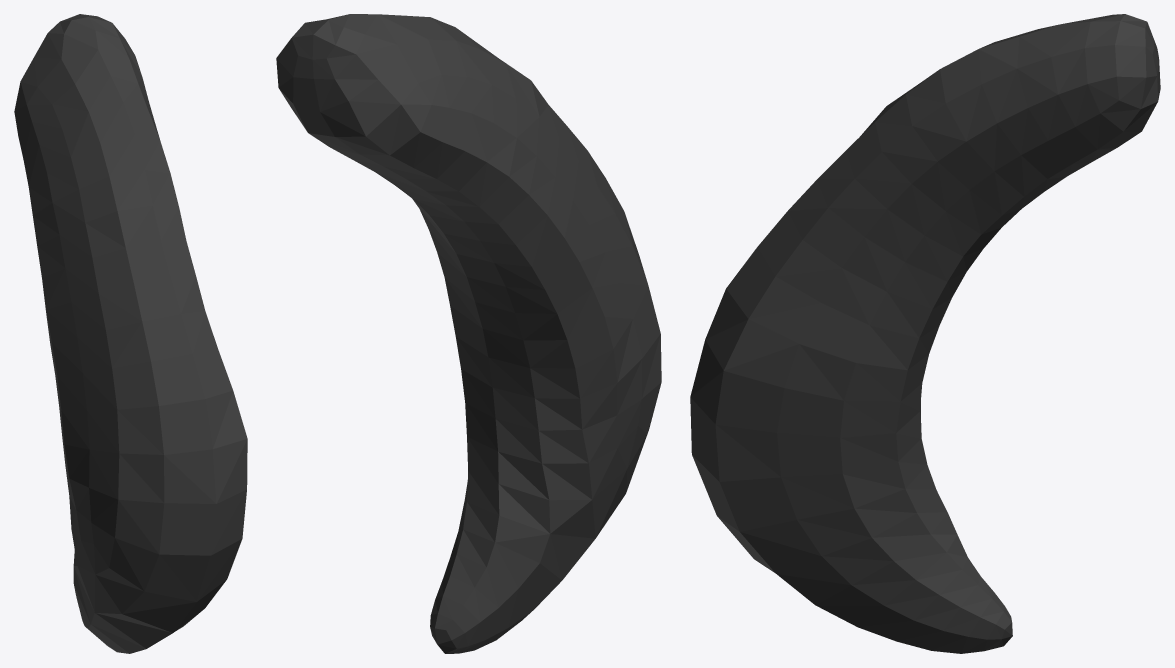
The model's file is R_max_canine.glb.
3 views of the same model, side by side, from view 1: azimuth 30°, elevation 25°; view 2: azimuth 150°, elevation 25°; view 3: azimuth 270°, elevation 25° (orthographic). The views are drawn at different scales.
Parts seen in each view (by area): view 1: R_max_canine; view 2: R_max_canine; view 3: R_max_canine.
Part boxes in pixels (<box>): R_max_canine: <box>14,14,247,653</box>; R_max_canine: <box>276,14,661,653</box>; R_max_canine: <box>690,14,1160,653</box>.
Size of the model in its own units: 0.2119 by 0.6753 by 0.435.
1 material, 1 textured.
